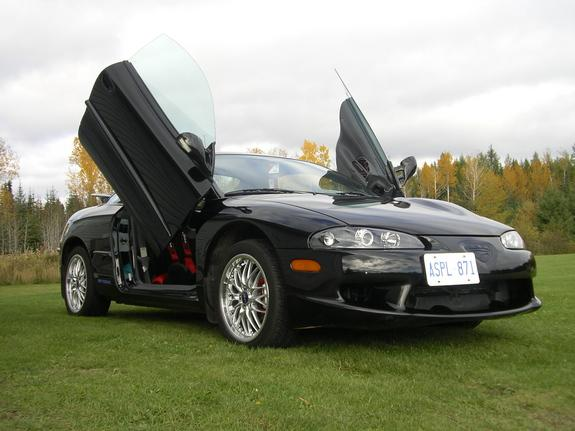Car: (44, 47, 551, 365)
